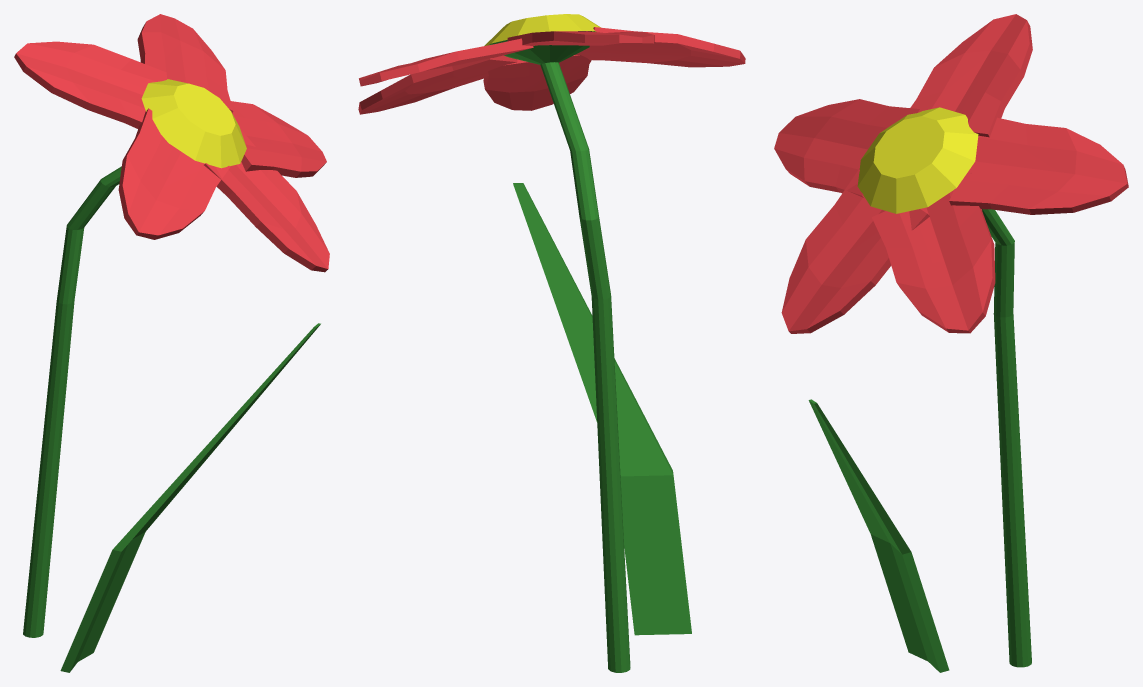
File: ForestFlower2.fbx
3 renders of one model, left to right at view 1: azimuth 30°, elevation 25°; view 2: azimuth 150°, elevation 25°; view 3: azimuth 270°, elevation 25°, orthographic. The views are drawn at different scales.
Parts seen in each view (by area): view 1: Flower2.2; view 2: Flower2.2; view 3: Flower2.2.
Part boxes in pixels (box(x1,y1,x2,y2)): Flower2.2: box(14, 14, 329, 672); Flower2.2: box(358, 14, 745, 672); Flower2.2: box(774, 14, 1128, 672).
Bounding box in the file's own units: 32.08 × 63.02 × 31.61.
